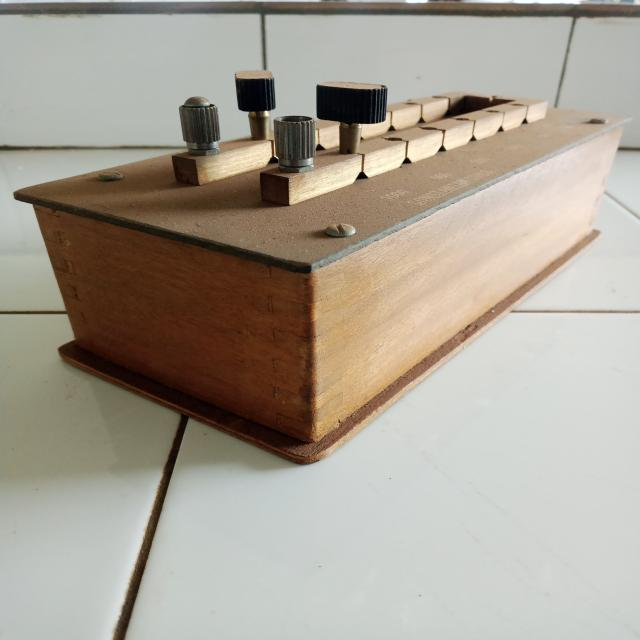Pinned Resistance Box: (4, 46, 625, 478)
